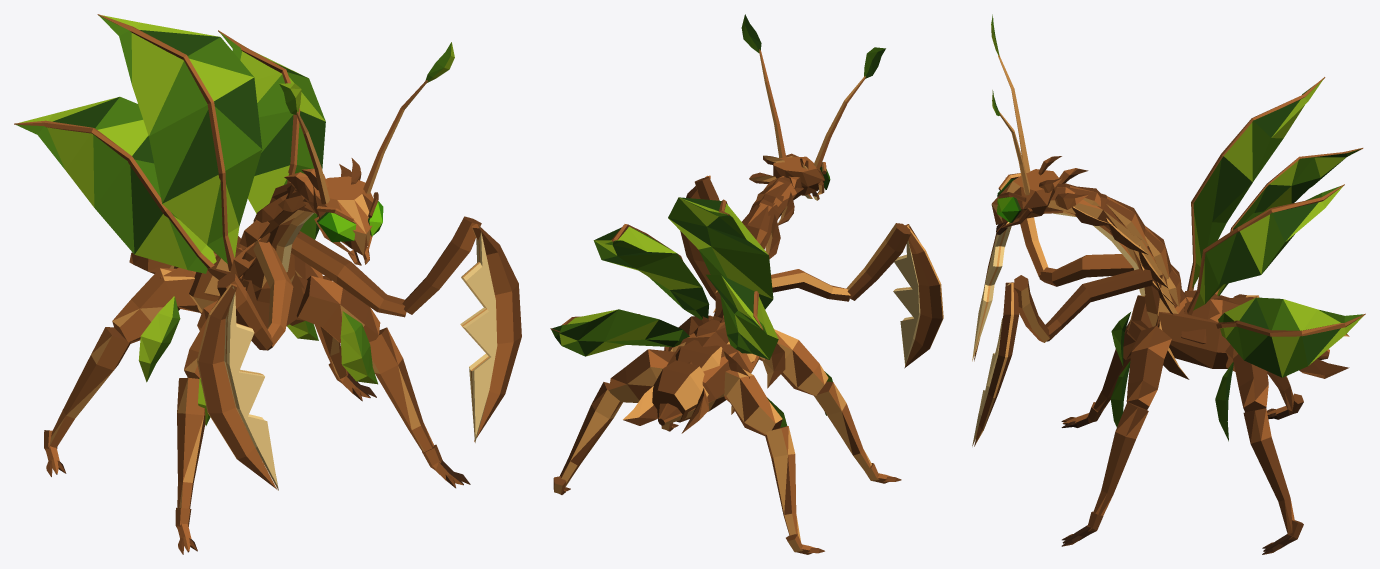
The model's file is mantis-study-cervical-frame-repair.glb.
The picture shows the model from 3 angles, left to right: view 1: azimuth 30°, elevation 25°; view 2: azimuth 150°, elevation 25°; view 3: azimuth 270°, elevation 25°; orthographic projection. The views are drawn at different scales.
Visible parts, largest first — view 1: Leaf wing wing-1_0, Leaf wing wing-1_1, Leaf wing wing1_0, Swept bevelled wood sickle -1, Swept bevelled wood sickle 1, Bevelled continuous ivory teeth 1, Bevelled continuous ivory teeth -1, Raptorial upper arm 1, Walking femur leg1_0, Walking tibia leg1_0, Walking femur leg-1_1, Walking tibia leg-1_1 (+17 smaller); view 2: Leaf wing wing-1_0, Leaf wing wing1_0, Leaf wing wing1_1, Leaf wing wing-1_1, Swept bevelled wood sickle -1, Abdomen core, Walking femur leg-1_1, Abdominal tergite 2, Walking tibia leg-1_1, Walking tibia leg1_1, Walking femur leg1_1, Walking femur leg-1_0 (+13 smaller); view 3: Leaf wing wing1_1, Leaf wing wing-1_0, Leaf wing wing1_0, Abdomen core, Rising prothorax curved cervical arch, Leaf wing wing-1_1, Walking femur leg1_0, Raptorial upper arm 1, Walking tibia leg1_1, Walking tibia leg1_0, Swept bevelled wood sickle 1, Raptorial upper arm -1 (+19 smaller).
Boxes of the visible parts, left/top/right/bottom form: Leaf wing wing-1_0: left=99, top=15, right=262, bottom=263; Leaf wing wing-1_1: left=16, top=96, right=216, bottom=273; Leaf wing wing1_0: left=219, top=32, right=325, bottom=213; Swept bevelled wood sickle -1: left=197, top=284, right=277, bottom=489; Swept bevelled wood sickle 1: left=472, top=223, right=521, bottom=441; Bevelled continuous ivory teeth 1: left=460, top=225, right=497, bottom=442; Bevelled continuous ivory teeth -1: left=224, top=285, right=278, bottom=490; Raptorial upper arm 1: left=291, top=231, right=406, bottom=317; Walking femur leg1_0: left=296, top=276, right=380, bottom=343; Walking tibia leg1_0: left=369, top=327, right=433, bottom=451; Walking femur leg-1_1: left=112, top=268, right=199, bottom=343; Walking tibia leg-1_1: left=49, top=327, right=130, bottom=447; Leaf wing wing-1_0: left=668, top=197, right=773, bottom=309; Leaf wing wing1_0: left=593, top=226, right=709, bottom=319; Leaf wing wing1_1: left=551, top=309, right=689, bottom=356; Leaf wing wing-1_1: left=706, top=274, right=778, bottom=359; Swept bevelled wood sickle -1: left=904, top=224, right=943, bottom=368; Abdomen core: left=657, top=319, right=759, bottom=425; Walking femur leg-1_1: left=724, top=369, right=782, bottom=435; Abdominal tergite 2: left=652, top=360, right=708, bottom=422; Walking tibia leg-1_1: left=765, top=426, right=800, bottom=541; Walking tibia leg1_1: left=560, top=382, right=622, bottom=487; Walking femur leg1_1: left=609, top=349, right=674, bottom=402; Walking femur leg-1_0: left=759, top=329, right=828, bottom=395; Leaf wing wing1_1: left=1218, top=297, right=1363, bottom=377; Leaf wing wing-1_0: left=1192, top=79, right=1323, bottom=288; Leaf wing wing1_0: left=1193, top=185, right=1342, bottom=310; Abdomen core: left=1155, top=295, right=1329, bottom=368; Rising prothorax curved cervical arch: left=1044, top=183, right=1188, bottom=326; Leaf wing wing-1_1: left=1217, top=148, right=1361, bottom=295; Walking femur leg1_0: left=1126, top=325, right=1171, bottom=409; Raptorial upper arm 1: left=1045, top=268, right=1152, bottom=341; Walking tibia leg1_1: left=1243, top=408, right=1294, bottom=533; Walking tibia leg1_0: left=1093, top=402, right=1148, bottom=515; Swept bevelled wood sickle 1: left=974, top=282, right=1019, bottom=446; Raptorial upper arm -1: left=1039, top=254, right=1133, bottom=286.
Size of the model in its own units: 2.73 by 3.88 by 3.2.
